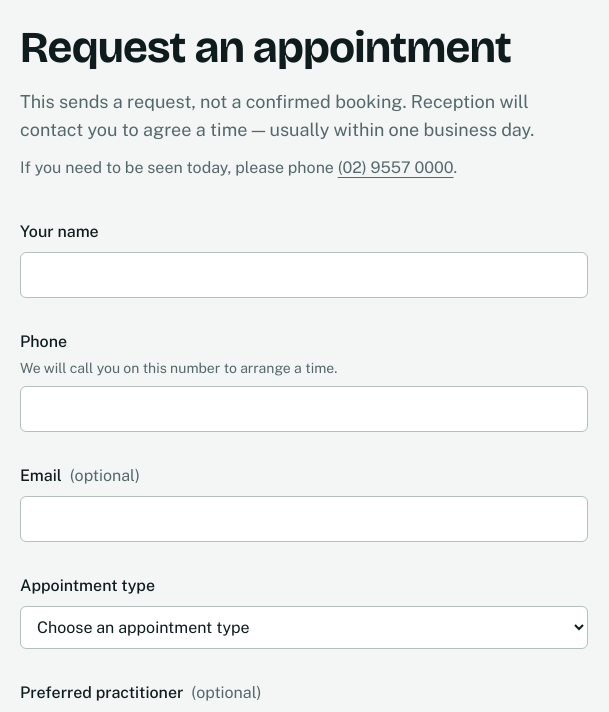
Test: Book › submits a valid request and shows the reference
Type "Jo Nguyen" into the field labelled "Your name". click: (304, 274)
box: left=20, top=252, right=588, bottom=298
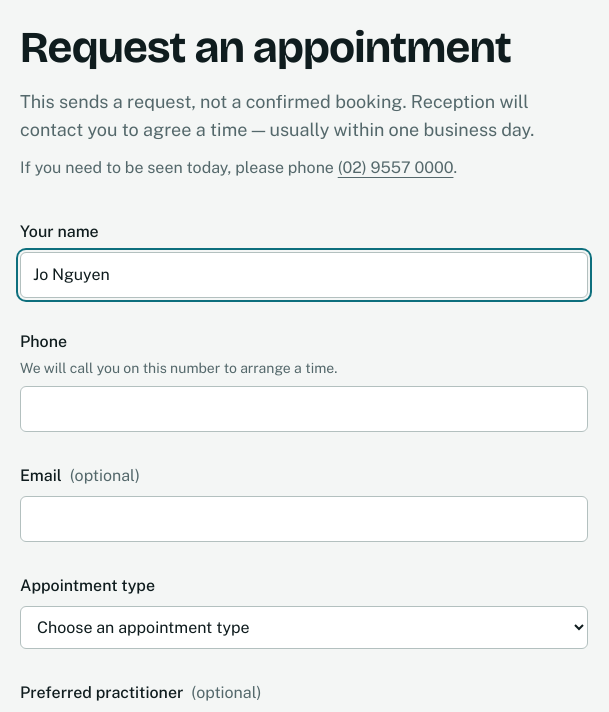
Type "0412345678" into the field labelled "Phone". click: (304, 408)
box: left=20, top=386, right=588, bottom=432
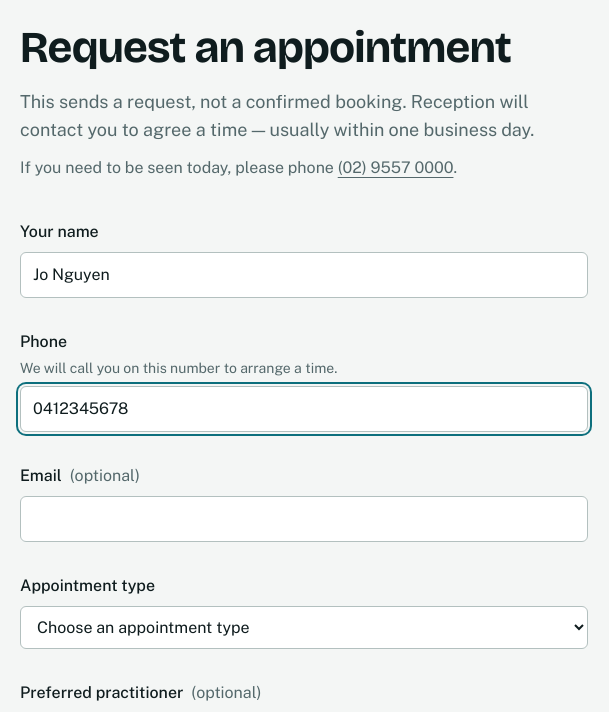
Select "Initial physiotherapy consultation — 45 min, $145" in the dropdown labelled "Appointment type". click: (304, 627)
box: left=20, top=606, right=588, bottom=648
(page scrolled)
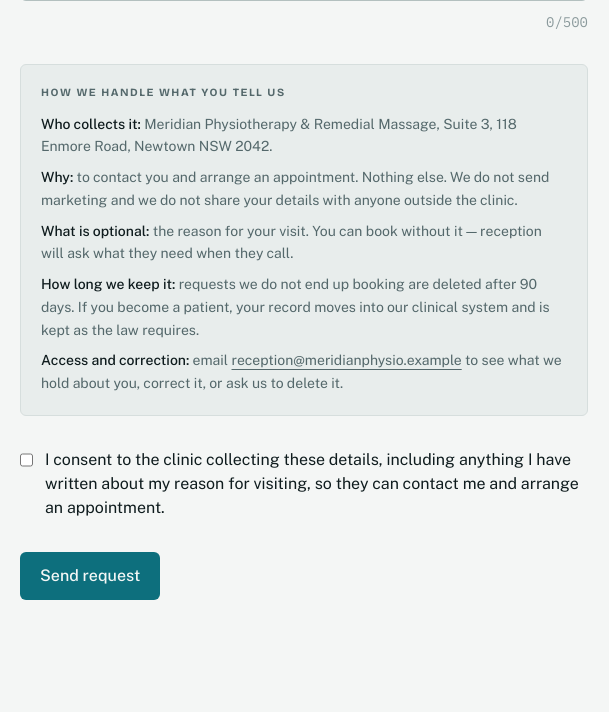
Click the checkbox labelled "I consent". click: (26, 460)
box: left=20, top=452, right=33, bottom=468
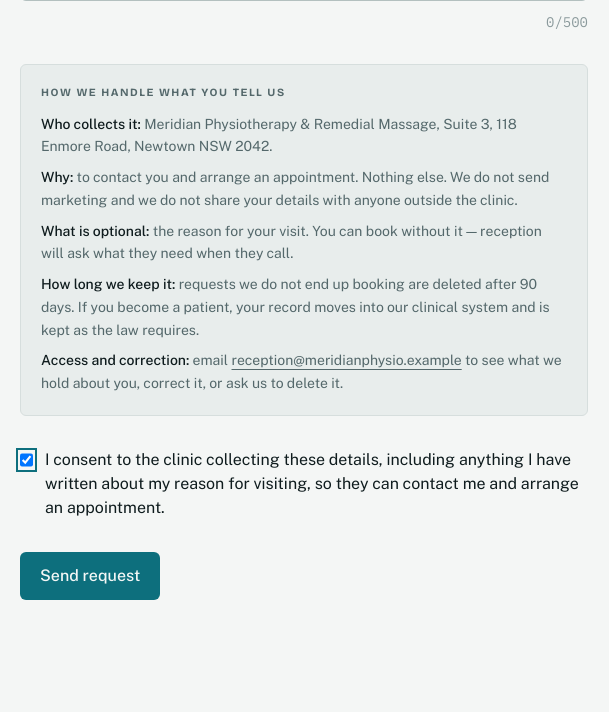
Click the button "Send request". click: (90, 576)
box: left=20, top=552, right=160, bottom=600
(page scrolled)
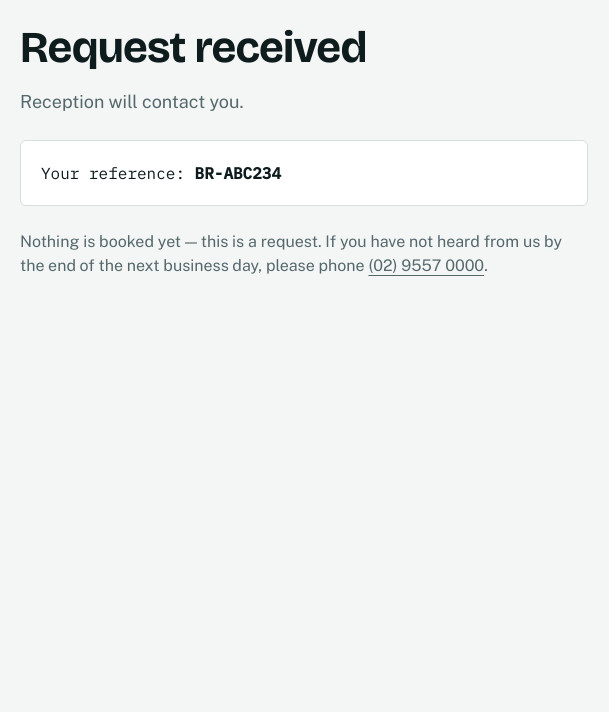
Expected: the text "BR-ABC234" is shown, left=195, top=162, right=281, bottom=182
